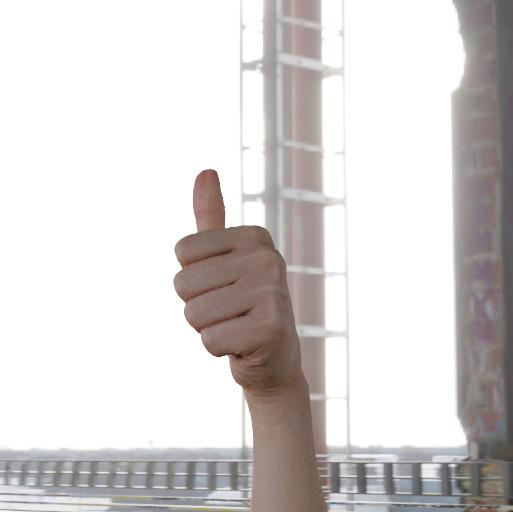thumbs-up: (171, 166, 301, 392)
